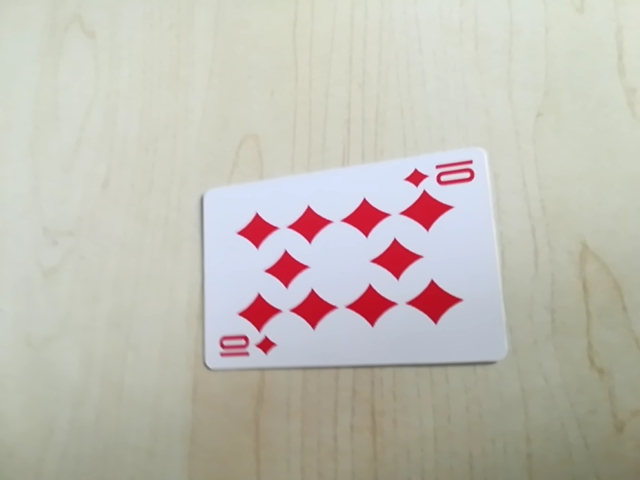fk 10: (402, 155, 482, 195), (212, 330, 280, 366)
